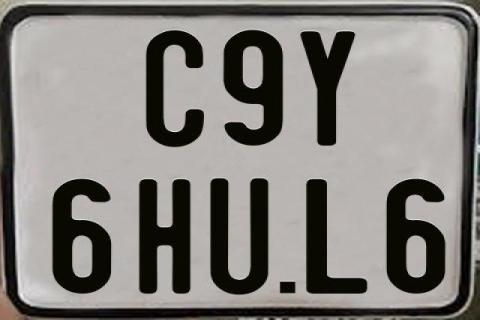0: (222, 30, 286, 148), (50, 178, 114, 294), (383, 179, 445, 295)
C: (146, 30, 208, 148)
H: (138, 179, 195, 293)
L: (304, 178, 370, 292)
U: (208, 176, 269, 297)
Y: (300, 31, 355, 149)
